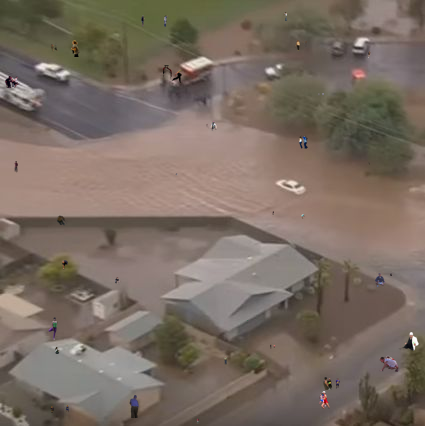Human: (50, 40, 80, 57), (163, 65, 185, 88), (318, 391, 346, 409), (398, 332, 419, 351), (379, 355, 402, 372), (141, 15, 168, 27), (323, 377, 343, 390), (129, 395, 139, 418), (48, 317, 58, 340), (3, 76, 21, 88), (56, 212, 69, 226), (375, 273, 388, 287), (204, 121, 217, 133), (50, 405, 69, 413), (298, 135, 308, 149), (295, 40, 307, 51), (62, 260, 68, 270), (115, 277, 122, 285), (197, 418, 206, 424), (14, 161, 18, 173), (283, 12, 287, 21), (55, 347, 60, 354), (270, 344, 276, 349), (224, 356, 227, 365), (300, 214, 305, 219), (368, 51, 371, 58), (318, 93, 324, 96), (175, 173, 180, 176), (390, 273, 393, 276), (272, 211, 274, 215), (368, 161, 370, 165), (247, 320, 248, 321)
